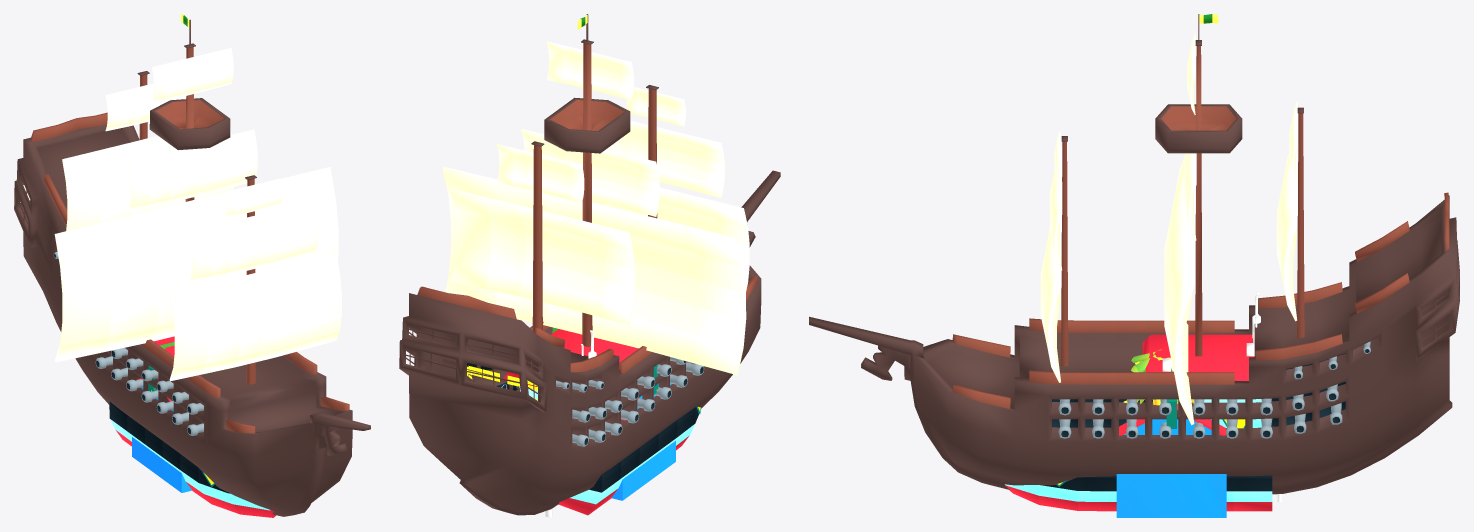
File: BarcoExtraCenario.fbx
3 views of the same model, side by side, from view 1: azimuth 30°, elevation 25°; view 2: azimuth 150°, elevation 25°; view 3: azimuth 270°, elevation 25° (orthographic). The views are drawn at different scales.
Visible parts, largest first — view 1: BarcoCanhao, BarcoPescador, Lojinha; view 2: BarcoCanhao, BarcoPescador, Lojinha, BarcoCanhaoJanela; view 3: BarcoCanhao, BarcoPescador, Lojinha.
Part boxes in pixels (x1,y1,x2,y2): BarcoCanhao: (14,14,370,516); BarcoPescador: (109,336,275,517); Lojinha: (132,342,192,492); BarcoCanhao: (399,14,780,515); BarcoPescador: (503,329,701,517); Lojinha: (552,327,675,500); BarcoCanhaoJanela: (467,365,537,400); BarcoCanhao: (809,14,1459,494); BarcoPescador: (1004,292,1281,511); Lojinha: (1116,368,1226,517).
Bounding box in the file's own units: 11.63 × 17.9 × 21.68.
